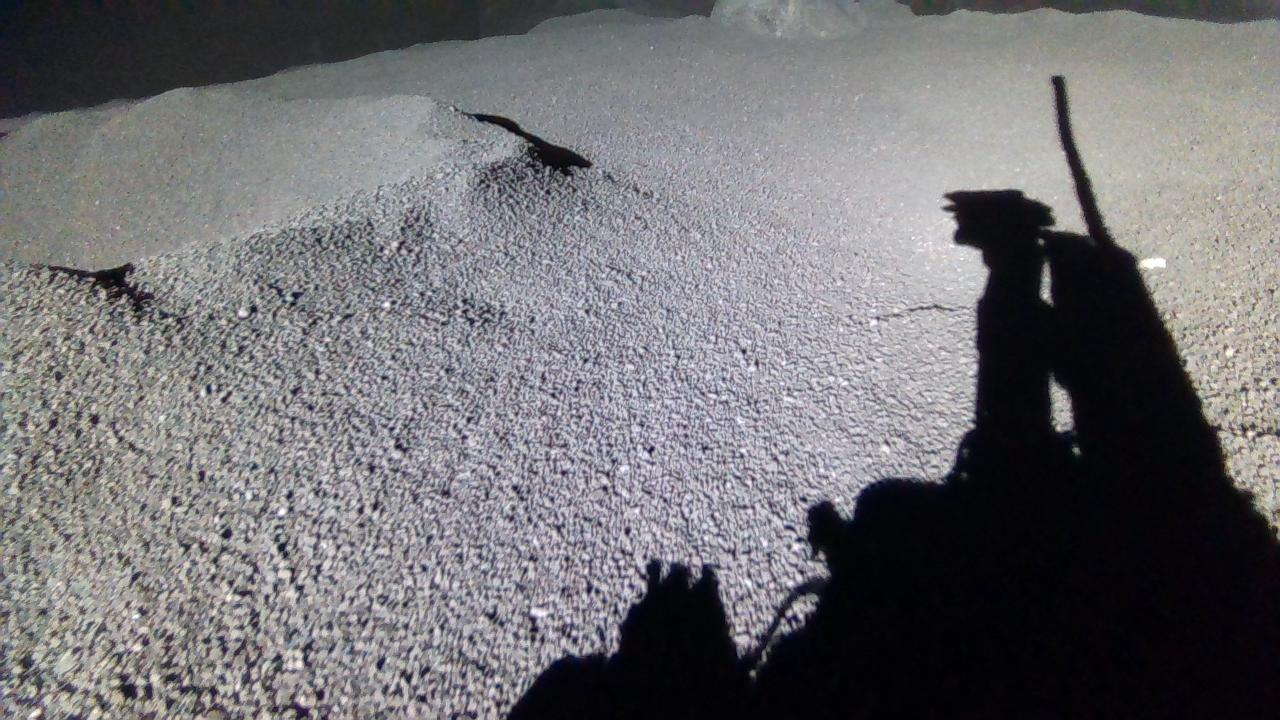rock: (712, 0, 915, 36)
